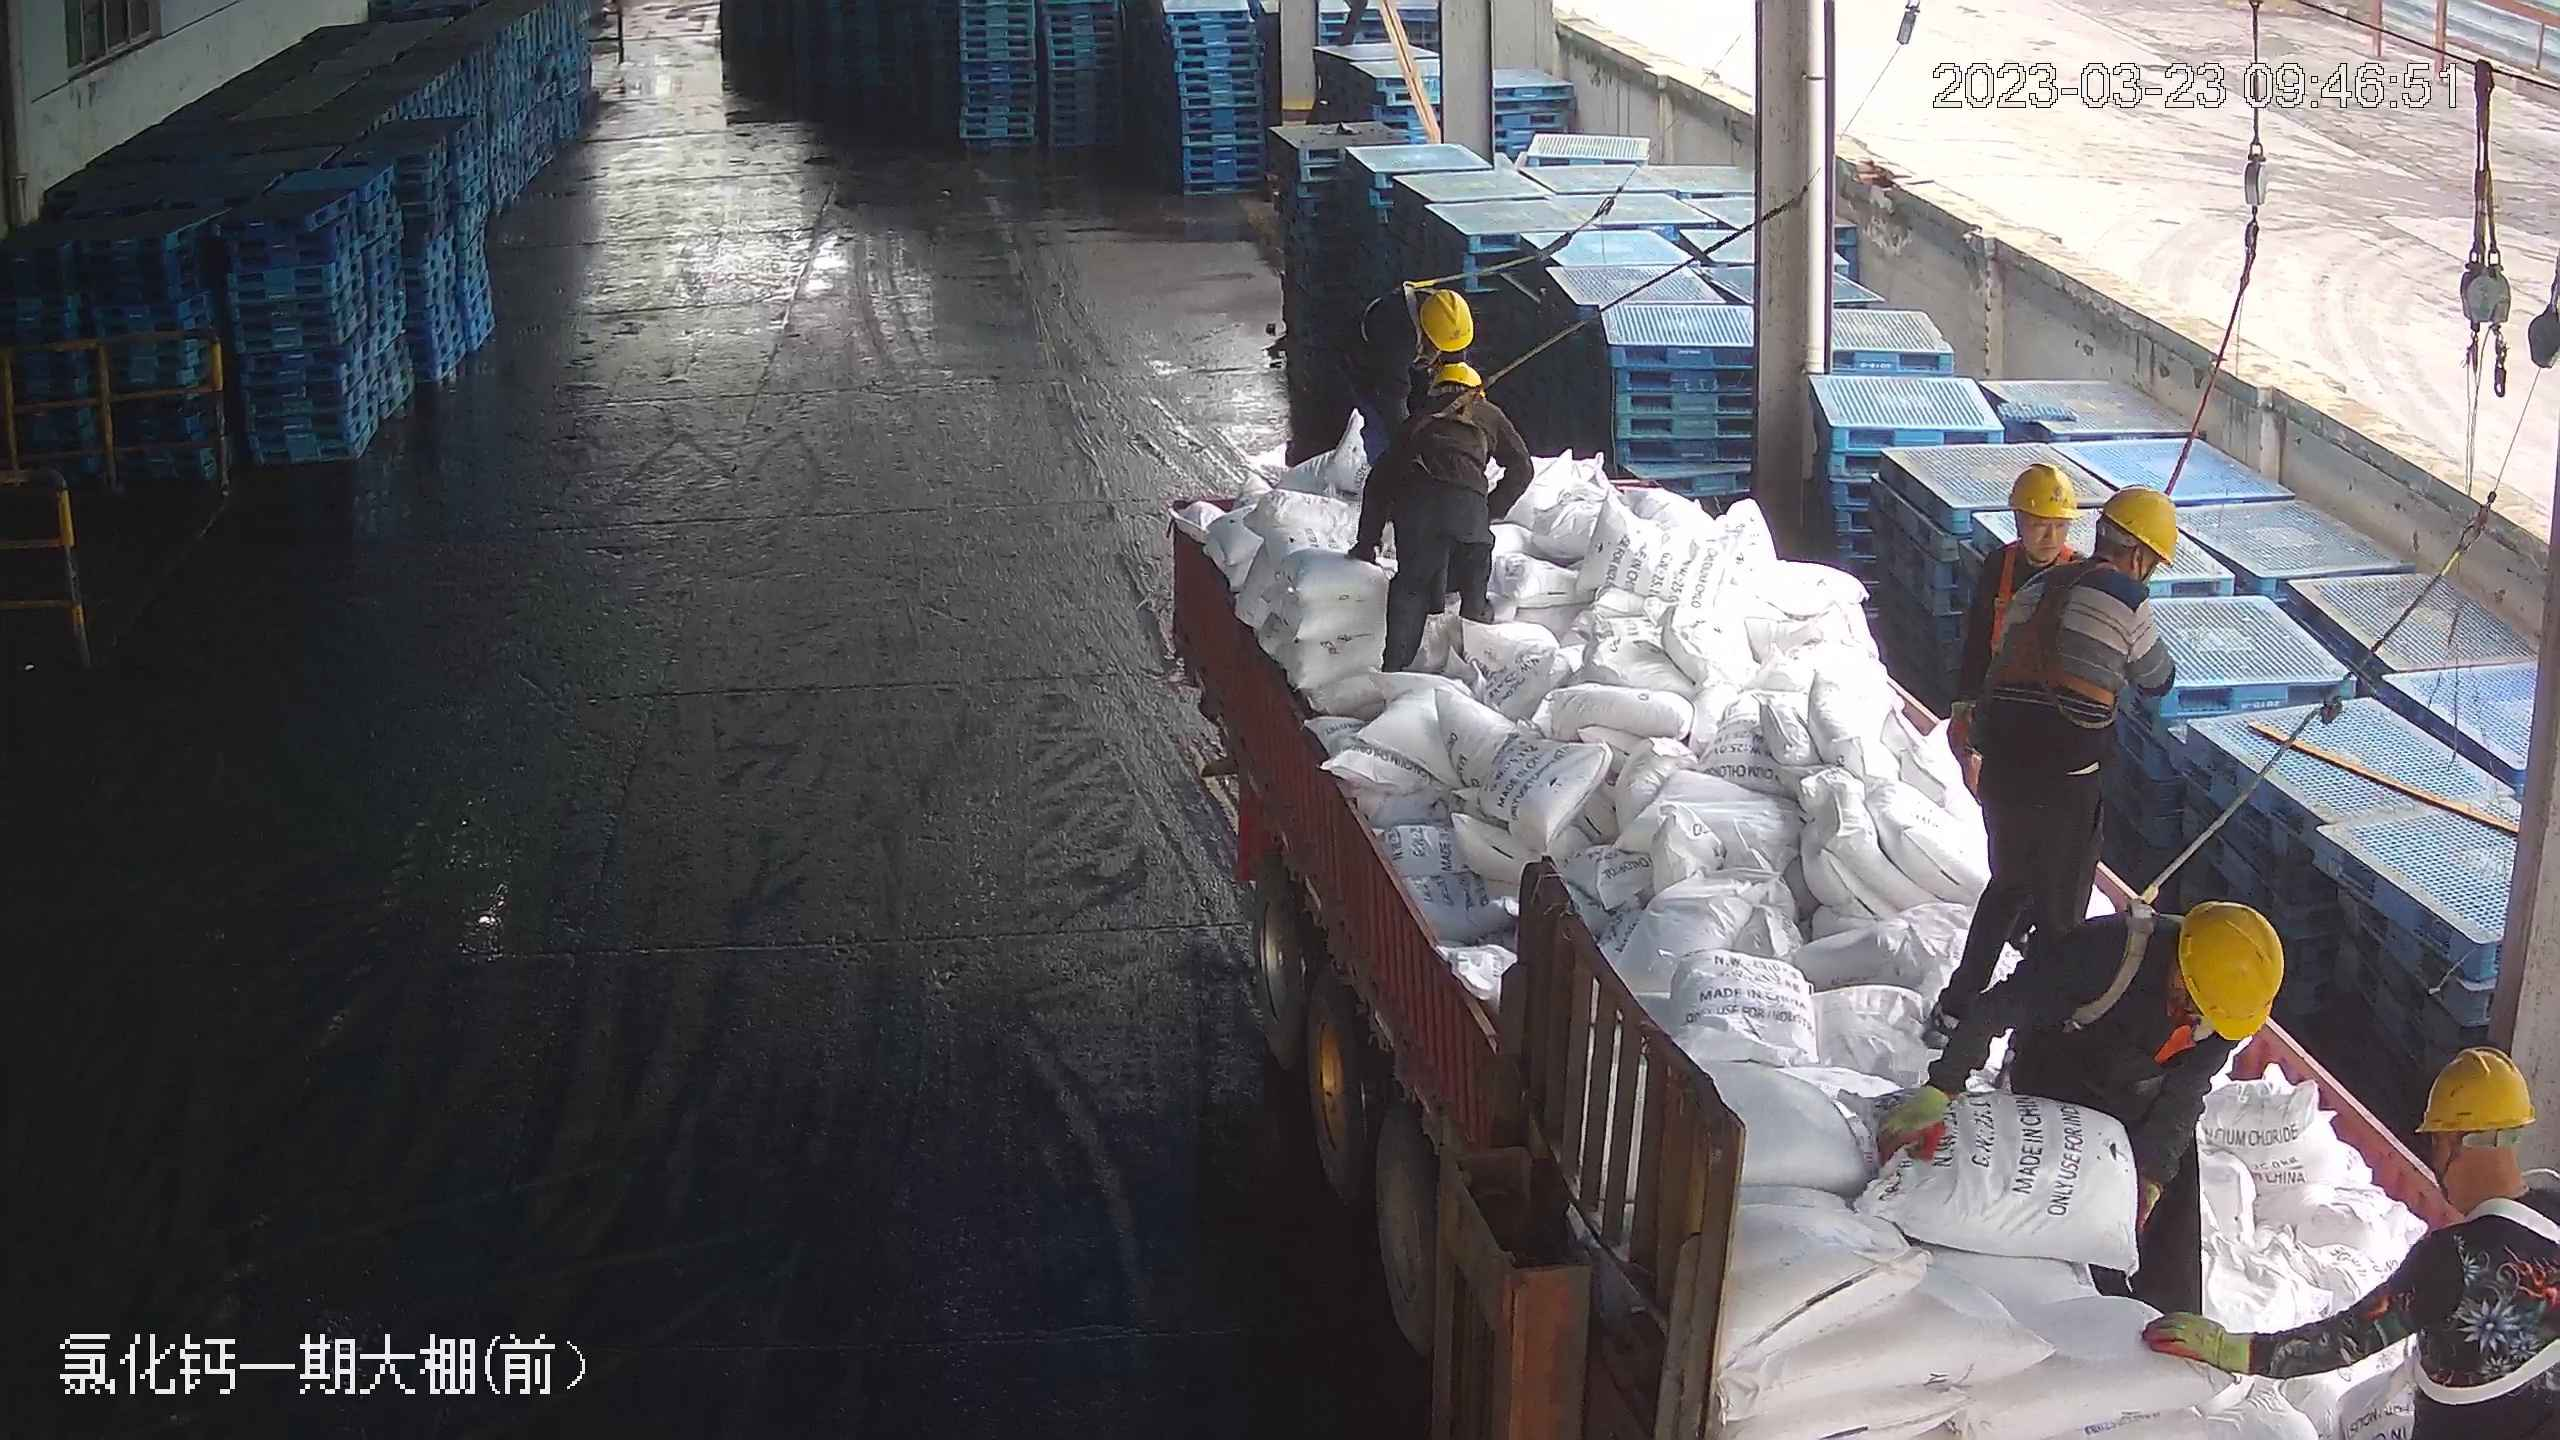belt: (2409, 1193, 2560, 1412), (2055, 868, 2183, 1048), (2001, 556, 2134, 704), (1360, 265, 1440, 355), (1404, 381, 1498, 449), (1979, 526, 2021, 642)
head: (2189, 1033, 2560, 1416), (2386, 1042, 2553, 1305), (2055, 881, 2271, 1082), (2039, 479, 2177, 645), (1367, 276, 1475, 362), (1401, 364, 1504, 456)
helmet: (2177, 897, 2284, 1042), (2410, 1043, 2533, 1137), (2097, 480, 2179, 566), (2001, 458, 2080, 521), (1416, 285, 1471, 350), (1420, 342, 1478, 397)
people: (1868, 875, 2293, 1344), (2149, 1034, 2560, 1440), (1917, 465, 2171, 1058), (1355, 346, 1522, 678), (1319, 273, 1483, 480)
truck: (1157, 184, 2462, 1440)
